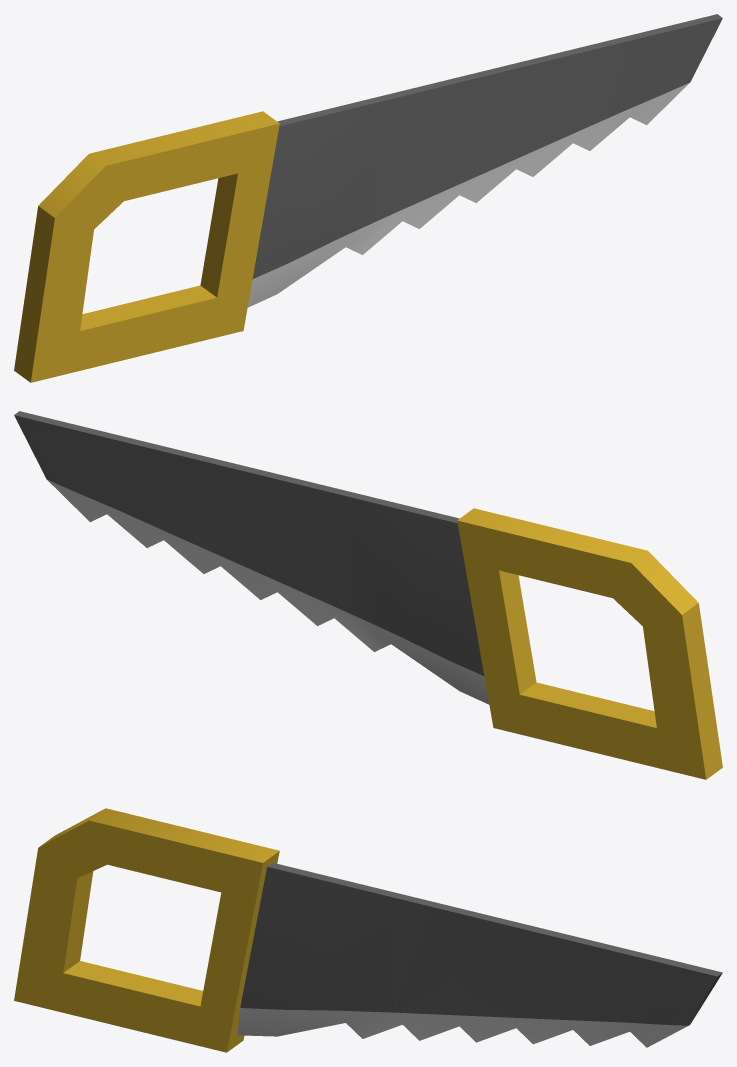
Rendered from Saw.fbx.
The picture shows the model from 3 angles, top to bottom: view 1: azimuth 30°, elevation 25°; view 2: azimuth 150°, elevation 25°; view 3: azimuth 330°, elevation 25°; orthographic projection.
Parts seen in each view (by area): view 1: Saw; view 2: Saw; view 3: Saw.
Boxes of the visible parts, box(x1,y1,x2,y2) form: Saw: box(14, 14, 722, 382); Saw: box(14, 411, 722, 779); Saw: box(14, 808, 722, 1052).
Bounding box in the file's own units: 142 × 38.73 × 5.92.
